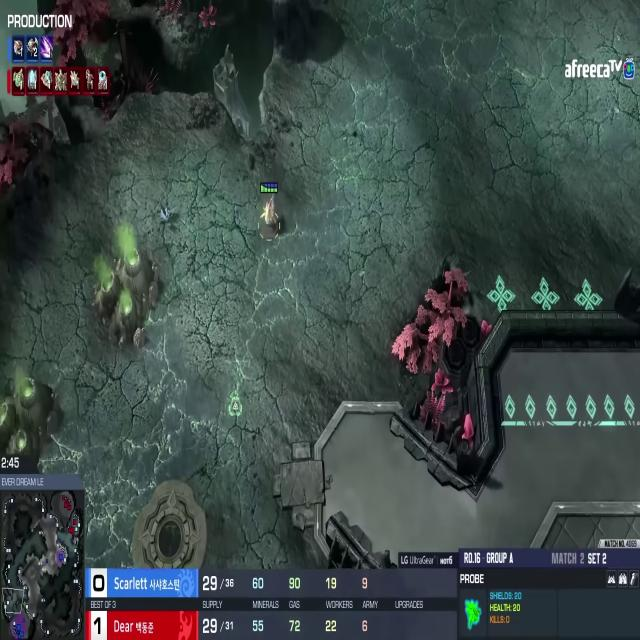probe: (261, 196, 280, 233)
